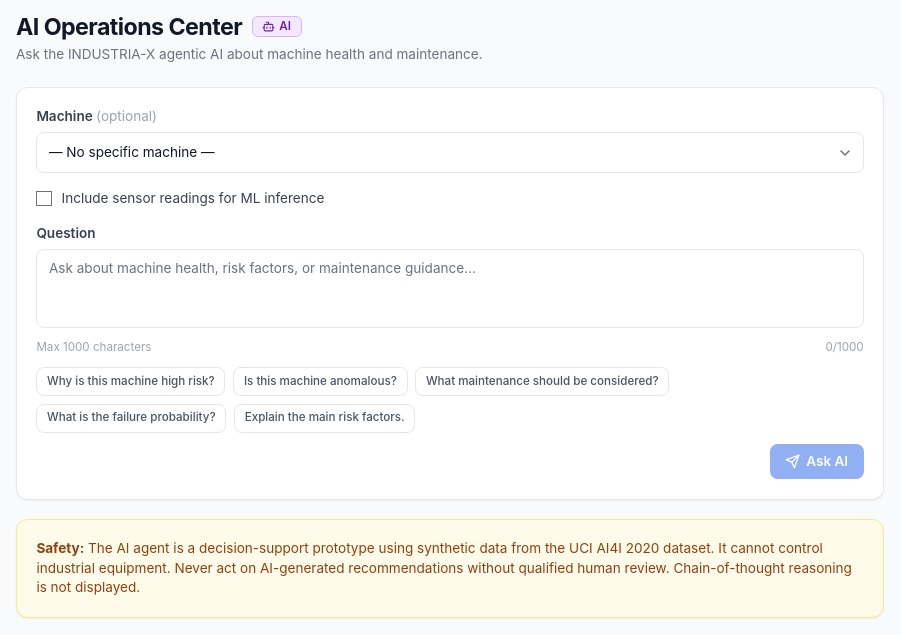
Test: AIOperationsPage — query submission › enables submit button when query is typed
Type "What is the risk?" into the text box named "AI query" at (450, 288), box x1=36 y1=249 x2=864 y2=328
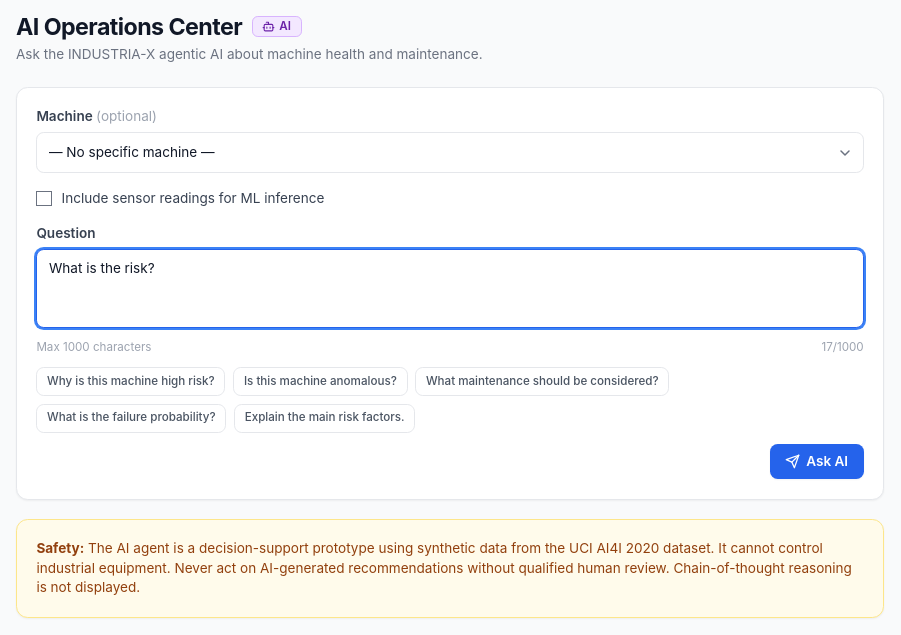
Result: the button "Ask AI" is enabled at x1=770 y1=444 x2=864 y2=479
